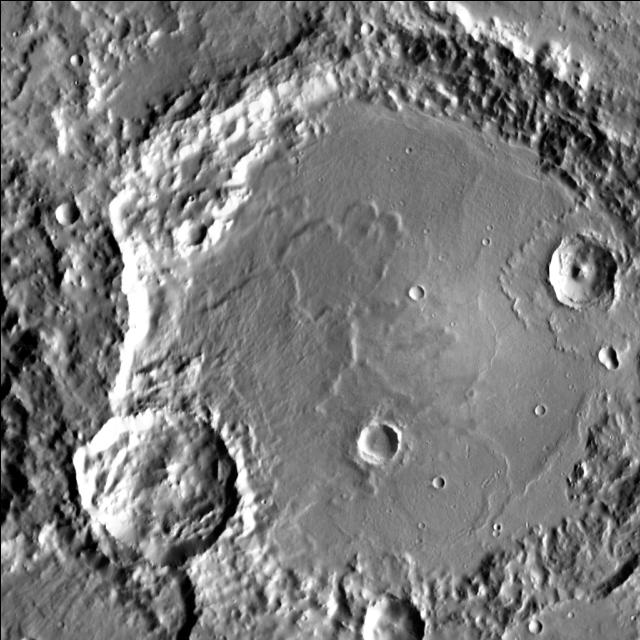crater: (70, 24, 640, 640), (72, 403, 232, 561), (540, 235, 611, 306), (354, 596, 417, 640), (349, 420, 392, 462), (171, 218, 199, 246), (48, 198, 72, 222), (590, 344, 608, 362), (402, 284, 416, 298), (62, 52, 76, 65), (352, 21, 366, 34), (522, 618, 534, 631), (599, 355, 611, 367), (425, 474, 437, 486), (526, 402, 538, 413), (412, 606, 423, 616), (484, 520, 492, 528), (560, 608, 568, 616), (492, 534, 499, 542), (284, 156, 292, 163), (482, 243, 489, 250), (58, 626, 64, 632), (300, 621, 306, 627), (404, 152, 410, 158), (558, 29, 564, 35)
